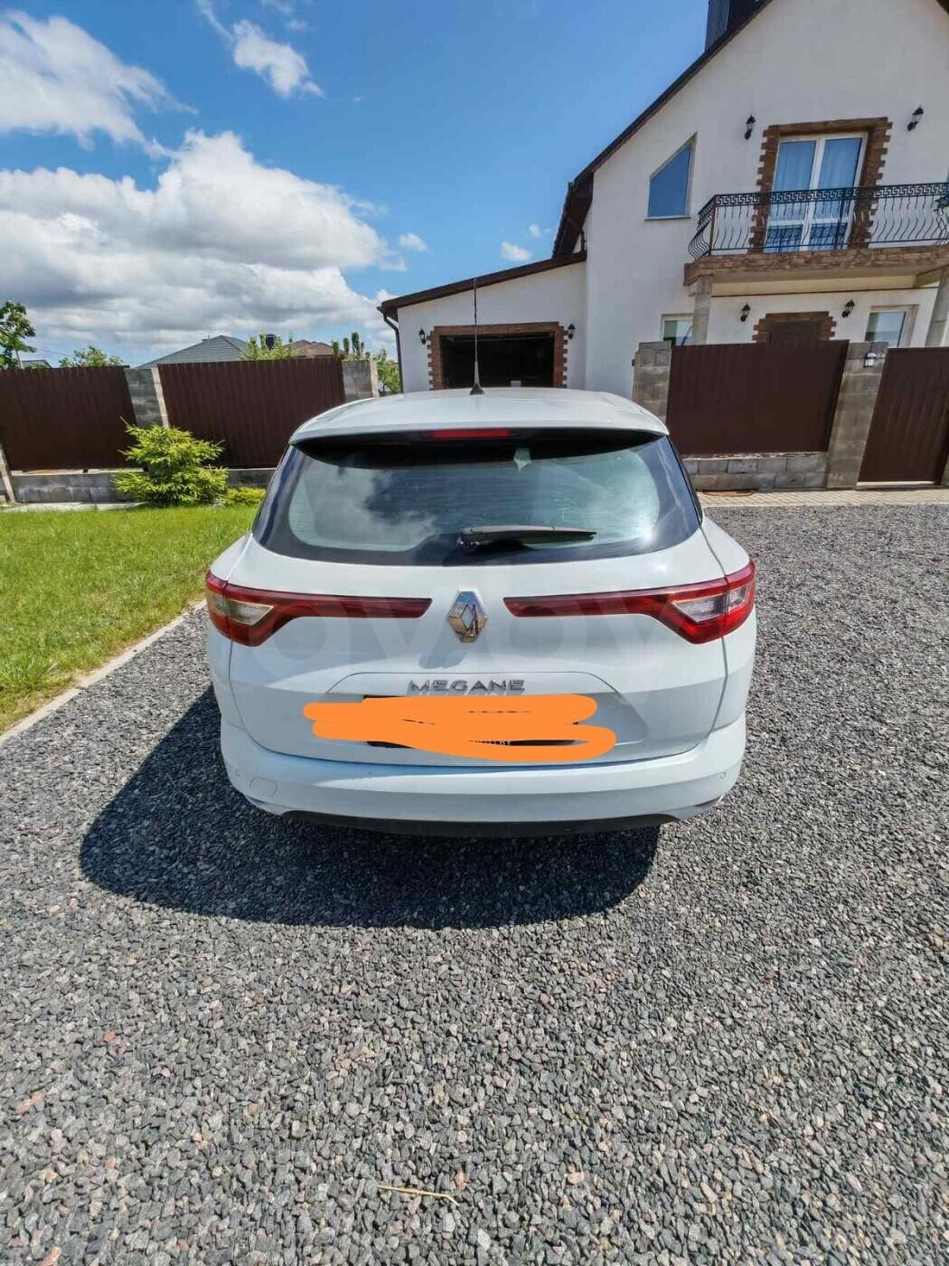Megane_2016-2020: (184, 383, 759, 846)
